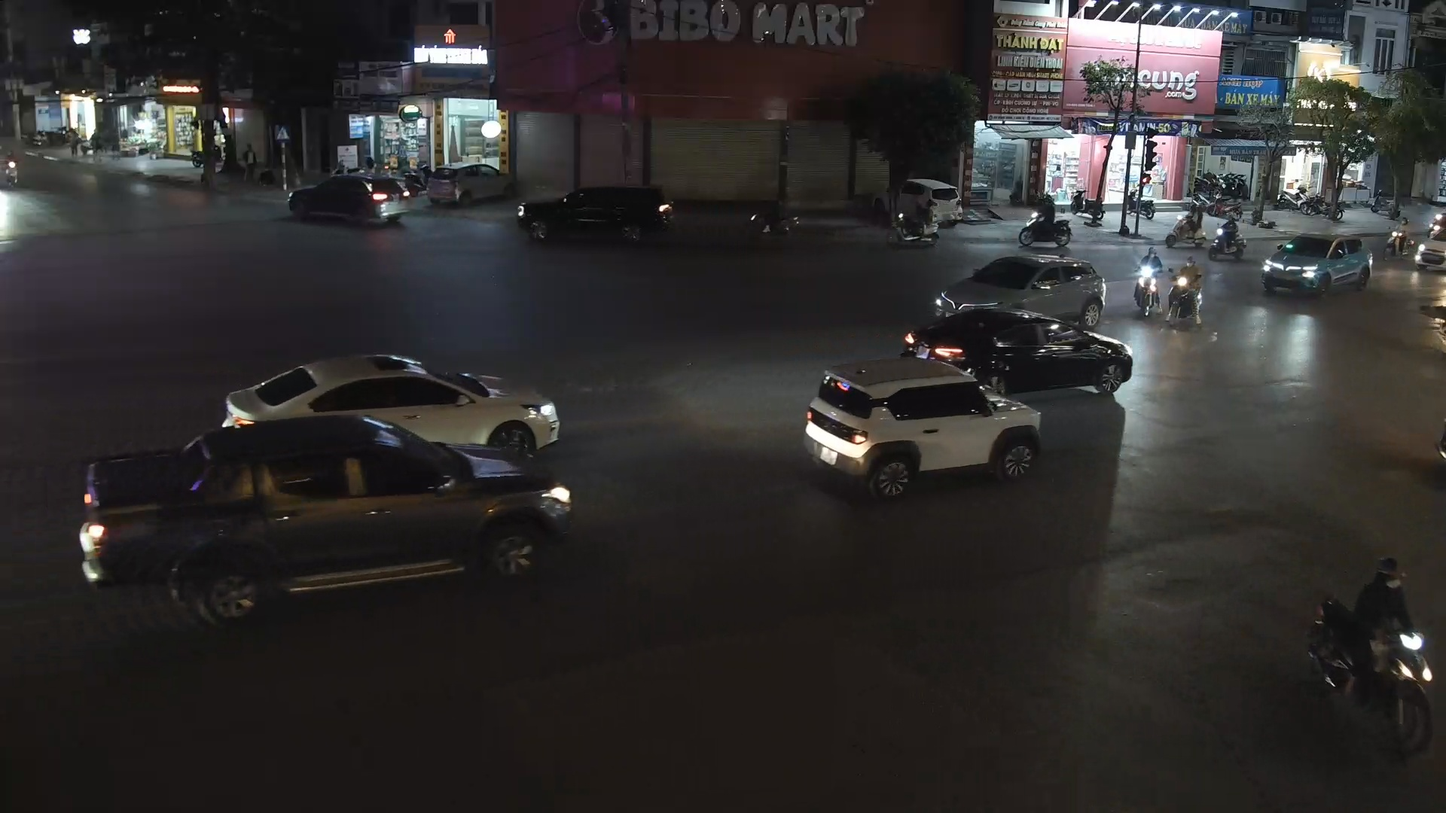car: (76, 348, 570, 610), (215, 349, 564, 474), (801, 358, 1044, 498), (902, 306, 1133, 403), (936, 250, 1114, 341), (1259, 228, 1373, 299), (284, 173, 405, 230)
motorbike: (1305, 554, 1438, 760)
